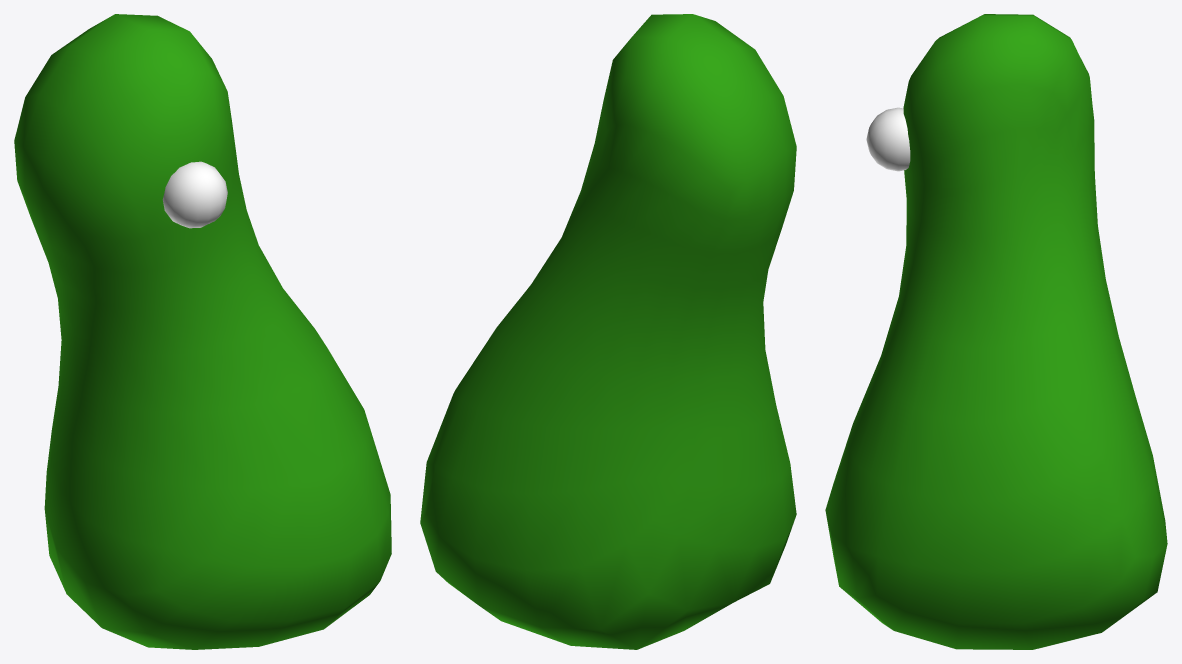
Rendered from Slime_01.fbx.
3 views of the same model, side by side, from view 1: azimuth 30°, elevation 25°; view 2: azimuth 150°, elevation 25°; view 3: azimuth 270°, elevation 25° (orthographic). The views are drawn at different scales.
Parts seen in each view (by area): view 1: Slime_01; view 2: Slime_01; view 3: Slime_01.
Boxes of the visible parts, left/top/right/bottom form: Slime_01: left=14, top=14, right=391, bottom=649; Slime_01: left=420, top=14, right=796, bottom=649; Slime_01: left=825, top=14, right=1167, bottom=649.
Bounding box in the file's own units: 0.5565 × 0.9906 × 0.5377.
